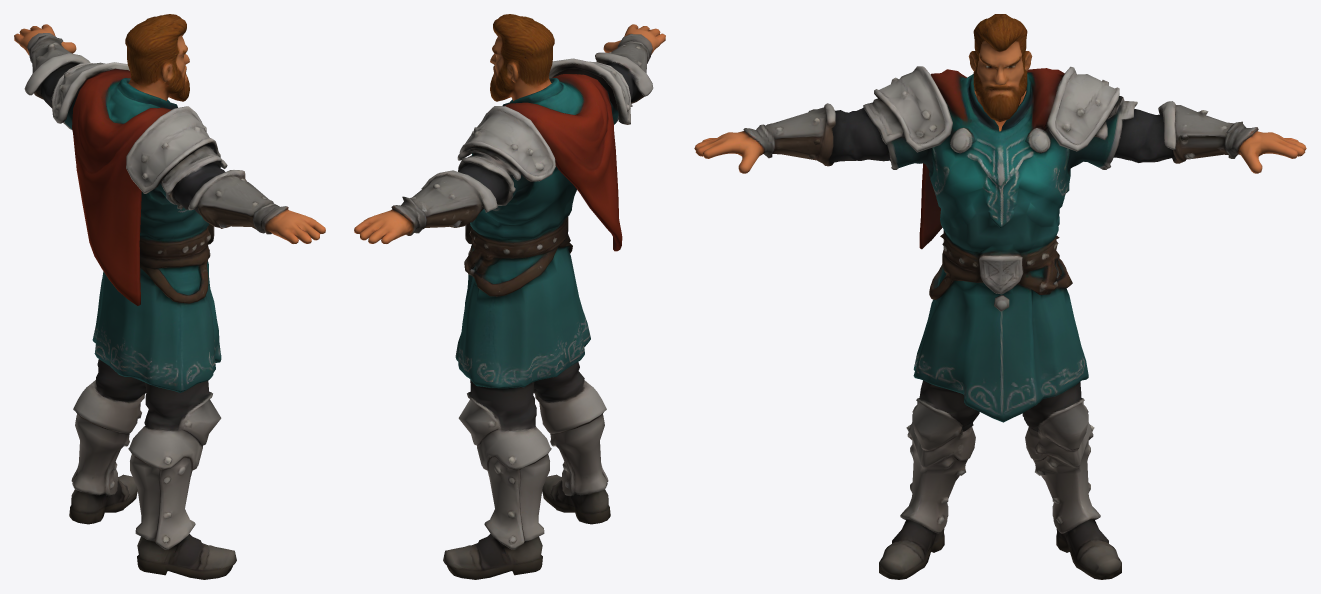
3 views of the same model, side by side, from view 1: azimuth 30°, elevation 25°; view 2: azimuth 150°, elevation 25°; view 3: azimuth 270°, elevation 25° (orthographic). The views are drawn at different scales.
Parts seen in each view (by area): view 1: tripo_node_908fed4d-c975-46c8-b2f6-cf04d980a4f2; view 2: tripo_node_908fed4d-c975-46c8-b2f6-cf04d980a4f2; view 3: tripo_node_908fed4d-c975-46c8-b2f6-cf04d980a4f2.
Part boxes in pixels (x1,y1,x2,y2): tripo_node_908fed4d-c975-46c8-b2f6-cf04d980a4f2: (14, 14, 325, 579); tripo_node_908fed4d-c975-46c8-b2f6-cf04d980a4f2: (354, 14, 665, 579); tripo_node_908fed4d-c975-46c8-b2f6-cf04d980a4f2: (694, 14, 1306, 579).
Bounding box in the file's own units: 0.2642 × 0.9961 × 1.
Materials: 1 (1 with a texture image).
